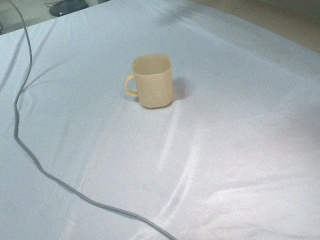cup: (122, 52, 176, 110)
